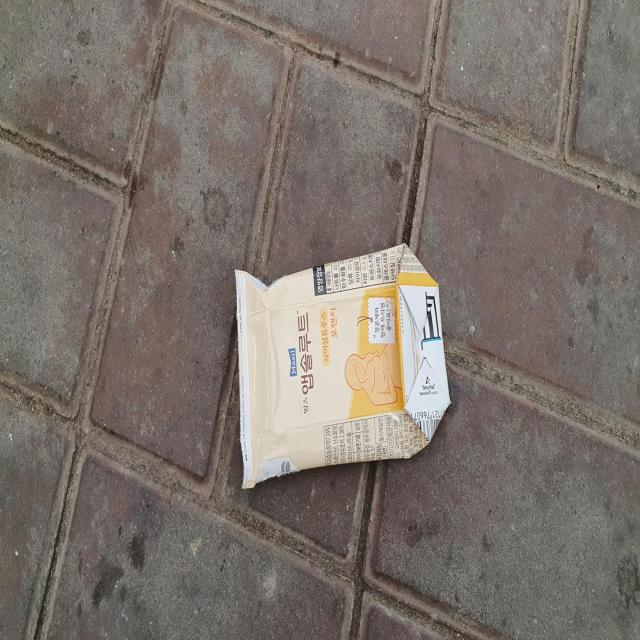paperpack: (235, 243, 450, 489)
